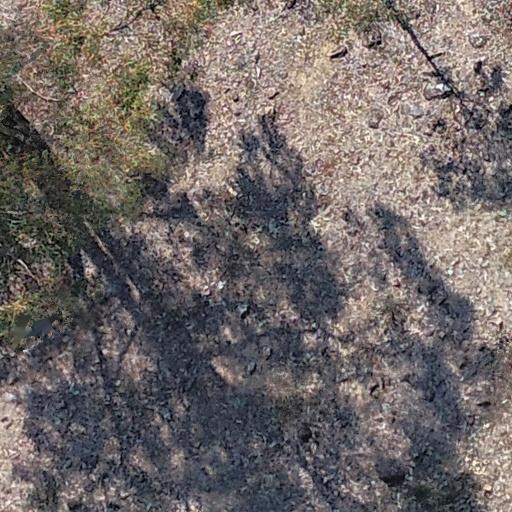stone: (423, 80, 453, 100), (326, 44, 351, 58), (368, 112, 382, 130), (262, 347, 275, 361), (246, 362, 258, 375), (266, 86, 278, 98), (379, 78, 390, 90), (230, 90, 240, 102), (230, 110, 242, 116)
